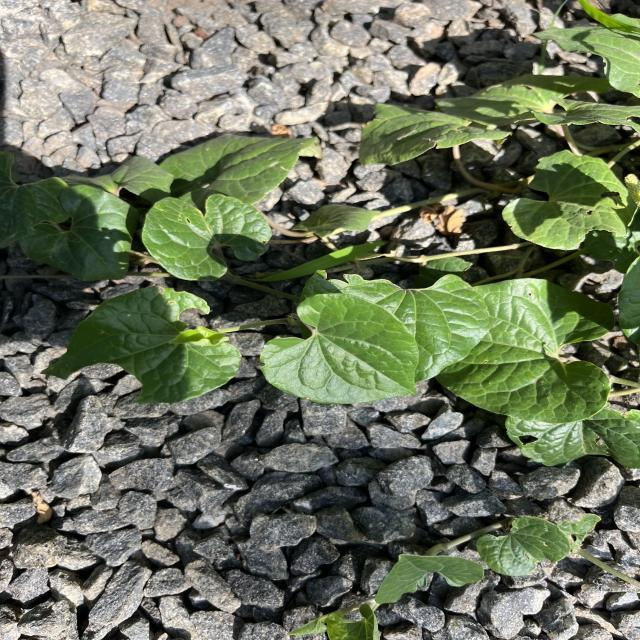Piper longum: (254, 291, 424, 406)
